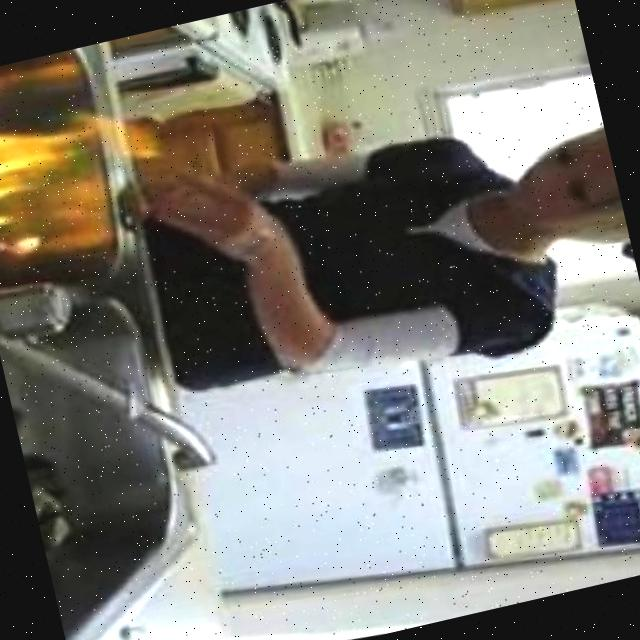fire: (0, 91, 141, 241)
